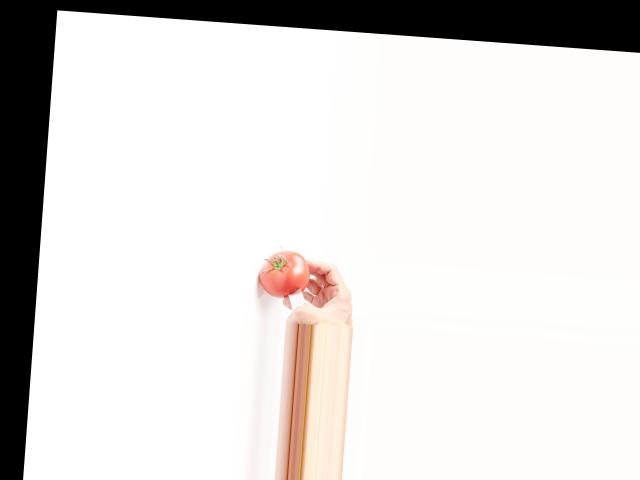tomato: (258, 249, 311, 299)
